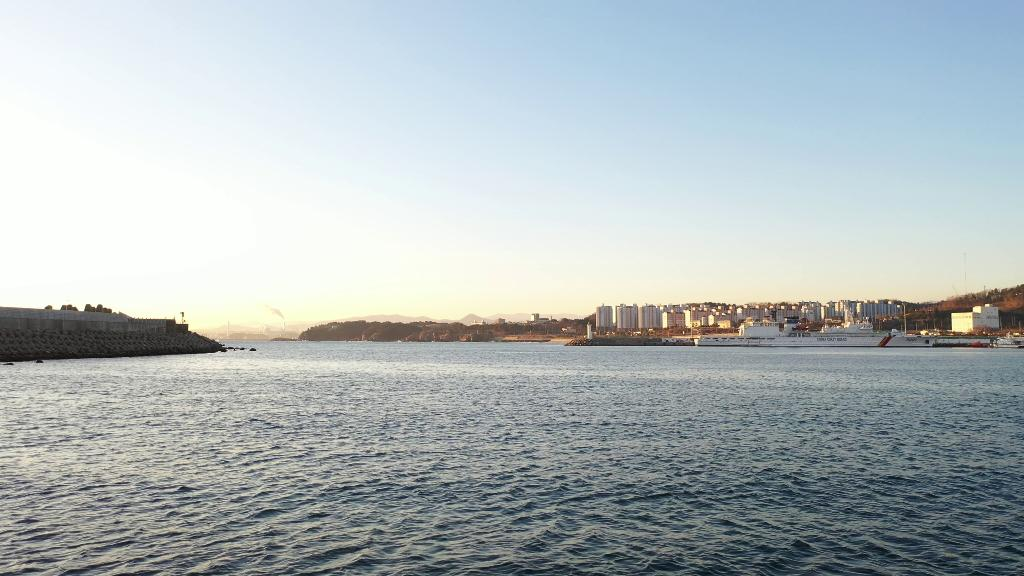Warship: (694, 308, 938, 346)
